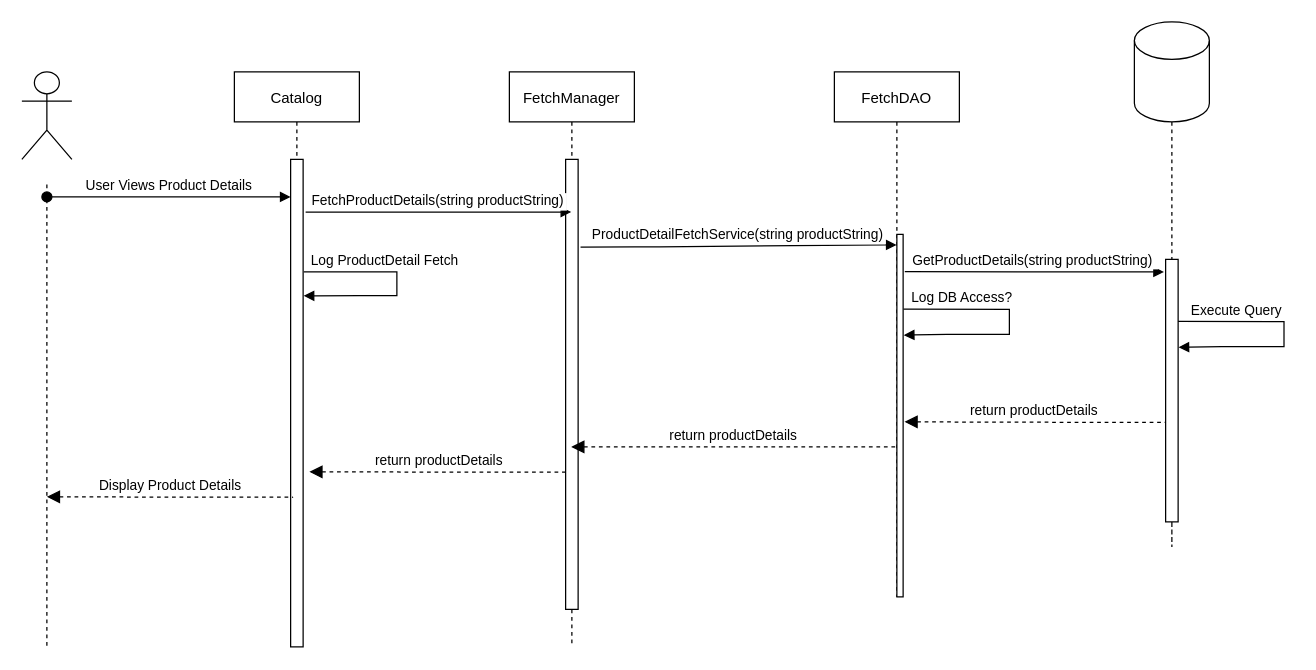
Some shapes in this 1316 by 670 pixel diagram are drawn without their labels. The box of each missing label's shape, as (x1, y1, x2, y2) in pixels:
Actor: (21, 71, 72, 159)
Database: (1133, 21, 1209, 122)
